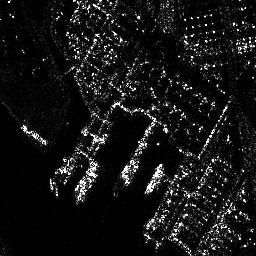ship: (55, 165, 78, 198), (18, 124, 49, 146), (75, 171, 97, 202), (146, 163, 165, 198), (124, 160, 140, 187)
